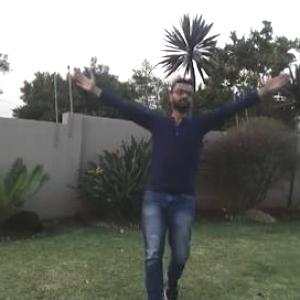takeoff: (55, 46, 299, 300)
